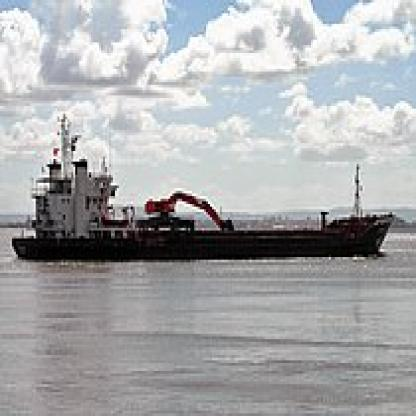Tanker: (22, 132, 396, 260)
